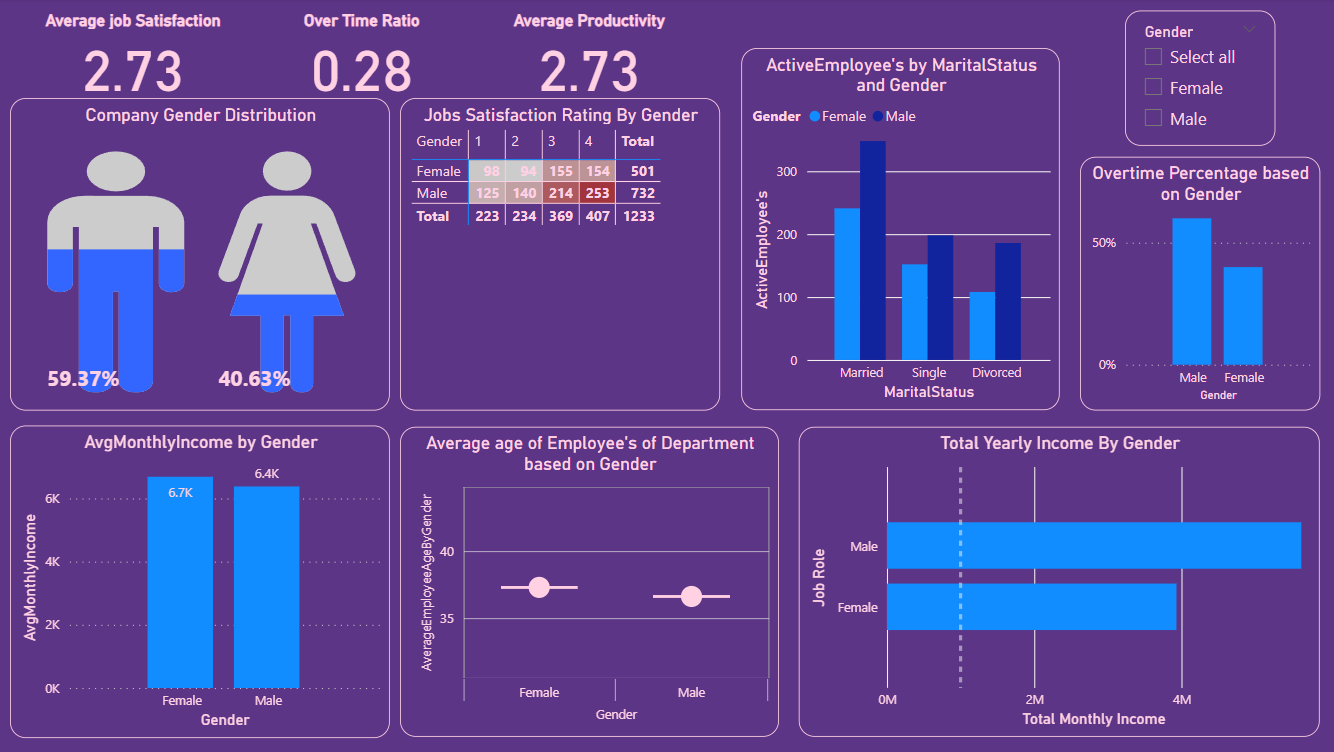

What the dashboard file says about the page in this screenshot:
{"tool":"powerbi","page":{"name":"Page 3","canvas":[1280,720],"ordinal":2},"visuals":[{"type":"BoxandWhiskerByMAQ1823AD39DT234AB532063E128AX","title":"Average age of Employee''s of Department based on Gender","fields":{"category":["EmployeeAttrition.Department"],"categoryGroup":["EmployeeAttrition.Gender"],"measure":["EmployeeAttrition.AverageEmployeeAgeByGender"]},"box":[380.8,408.2,360.6,295.1],"z":0},{"type":"barChart","title":"Total Yearly Income By Gender","fields":{"Y":["Sum(EmployeeAttrition.MonthlyIncome)"],"Category":["EmployeeAttrition.Gender"]},"box":[760.5,408.2,496.3,295.1],"z":1000},{"type":"card","title":"Average job Satisfaction","fields":{"Values":["EmployeeAttrition.JobRoleSatisfaction"]},"box":[17.9,0,217.8,95.2],"z":2000},{"type":"columnChart","fields":{"Category":["EmployeeAttrition.Gender"],"Y":["EmployeeAttrition.AvgMonthlyIncome"]},"box":[9.5,407,361.8,297.5],"z":3000},{"type":"pivotTable","title":"Jobs Satisfaction Rating By Gender","fields":{"Columns":["EmployeeAttrition.JobSatisfaction"],"Values":["EmployeeAttrition.ActiveEmployee's"],"Rows":["EmployeeAttrition.Gender"]},"box":[380.8,95.2,304.7,297.5],"z":4000},{"type":"slicer","fields":{"Values":["EmployeeAttrition.Gender"]},"box":[1071.1,11.9,142.8,128.5],"z":5000},{"type":"card","title":"Over Time Ratio","fields":{"Values":["EmployeeAttrition.OvertimePercentage"]},"box":[235.6,0,217.8,95.2],"z":6000},{"type":"columnChart","title":"Overtime Percentage based on Gender","fields":{"Category":["EmployeeAttrition.Gender"],"Y":["CountNonNull(EmployeeAttrition.OverTime)"]},"box":[1028.2,151.1,228.5,241.6],"z":7000},{"type":"card","title":"Average Productivity","fields":{"Values":["EmployeeAttrition.EmployeeProductivityIndex"]},"box":[452.2,0,217.8,95.2],"z":8000},{"type":"PBI_CV_73744D90_4DC9_4F18_8BA5_EE8FA5C98035","title":"Company Gender Distribution","fields":{"Category":["EmployeeAttrition.Gender"],"Values":["EmployeeAttrition.ActiveEmployee's"]},"box":[9.5,95.2,361.8,297.5],"z":9000},{"type":"clusteredColumnChart","fields":{"Category":["EmployeeAttrition.MaritalStatus"],"Y":["EmployeeAttrition.ActiveEmployee's"],"Series":["EmployeeAttrition.Gender"]},"box":[705.7,47.6,303.5,345.1],"z":10000}]}

Visuals, with their boxes in screenshot pixels (x1, y1, x2, y2), scaled from the page's 1280x720 canvas onto the 1334x752 screenshot:
"Average age of Employee''s of Department based on Gender" BoxandWhiskerByMAQ1823AD39DT234AB532063E128AX: [397,426,773,735]
"Total Yearly Income By Gender" barChart: [793,426,1310,735]
"Average job Satisfaction" card: [19,0,246,99]
columnChart - EmployeeAttrition.Gender x EmployeeAttrition.AvgMonthlyIncome: [10,425,387,736]
"Jobs Satisfaction Rating By Gender" pivotTable: [397,99,714,410]
slicer - EmployeeAttrition.Gender: [1116,12,1265,147]
"Over Time Ratio" card: [246,0,473,99]
"Overtime Percentage based on Gender" columnChart: [1072,158,1310,410]
"Average Productivity" card: [471,0,698,99]
"Company Gender Distribution" PBI_CV_73744D90_4DC9_4F18_8BA5_EE8FA5C98035: [10,99,387,410]
clusteredColumnChart - EmployeeAttrition.MaritalStatus x EmployeeAttrition.ActiveEmployee's: [735,50,1052,410]
